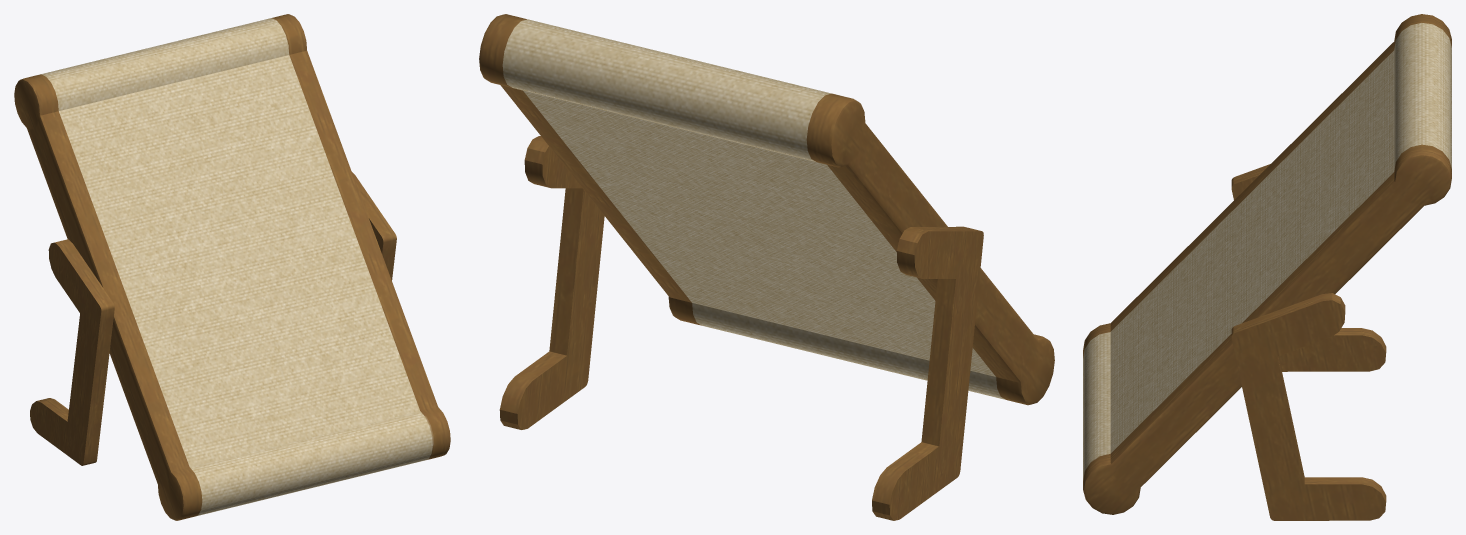
Rendered from team scratchaer.fbx.
3 renders of one model, left to right at view 1: azimuth 30°, elevation 25°; view 2: azimuth 150°, elevation 25°; view 3: azimuth 270°, elevation 25°, orthographic. The views are drawn at different scales.
Parts seen in each view (by area): view 1: scratcher; view 2: scratcher; view 3: scratcher.
Part boxes in pixels (bbox=[...]): scratcher: bbox=[14, 14, 450, 520]; scratcher: bbox=[479, 14, 1054, 520]; scratcher: bbox=[1083, 14, 1451, 520].
Bounding box in the file's own units: 245 × 265 × 245.
1 material, 1 textured.
